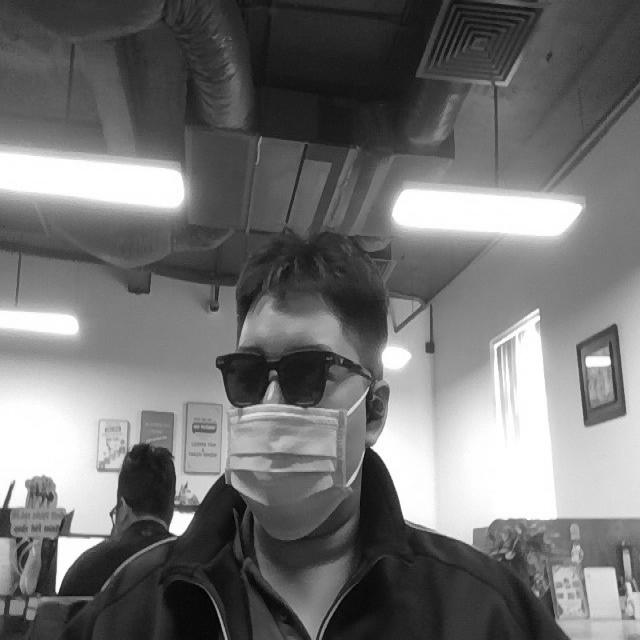fake: (217, 402, 357, 545), (209, 342, 375, 407)
